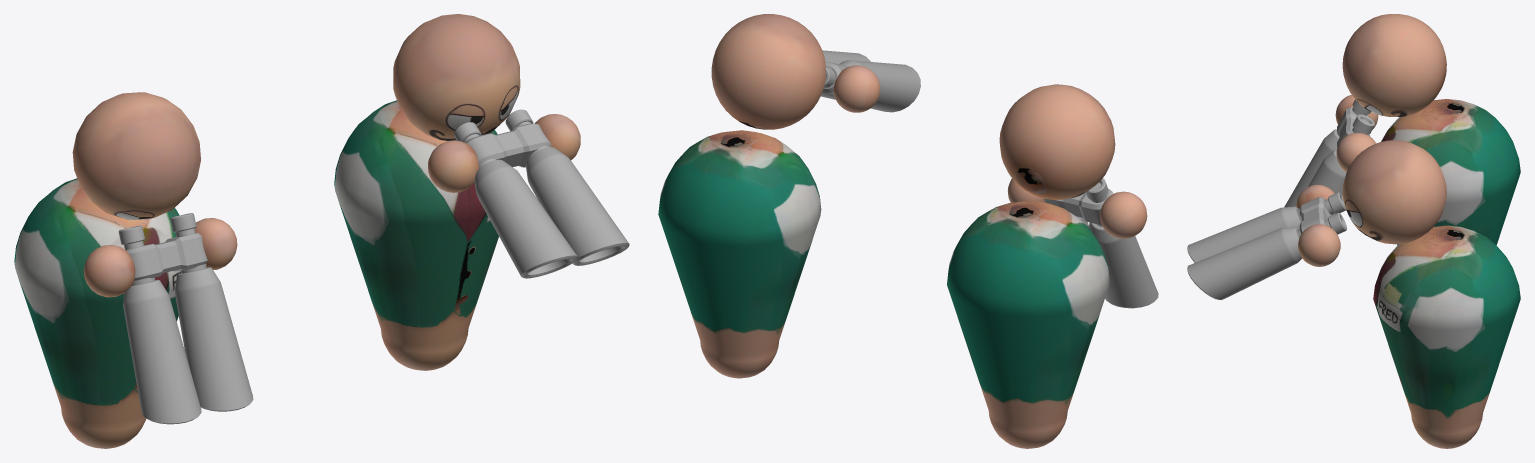
File: Look_variants.fbx
The picture shows the model from 3 angles, left to right: view 1: azimuth 30°, elevation 25°; view 2: azimuth 150°, elevation 25°; view 3: azimuth 270°, elevation 25°; orthographic projection. The views are drawn at different scales.
Visible parts, largest first — view 1: Look_variants; view 2: Look_variants; view 3: Look_variants.
Part boxes in pixels (box(x1,y1,x2,y2)): Look_variants: box(14, 14, 629, 448); Look_variants: box(658, 14, 1158, 448); Look_variants: box(1187, 14, 1520, 448).
Size of the model in its own units: 351 by 261 by 262.
2 materials, 1 textured.
